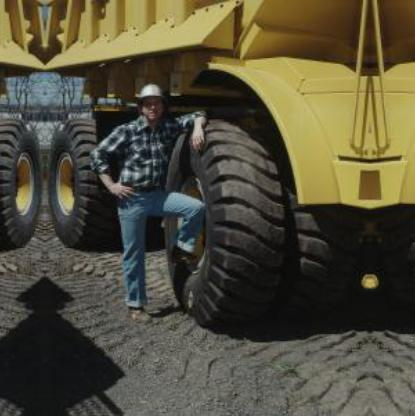helmet: (133, 75, 170, 105)
